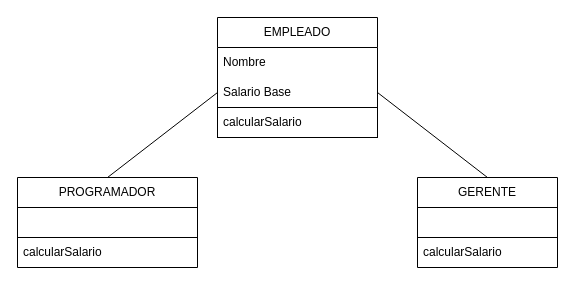
This 575x285 diagram has some shape labels left out. The shapes that lost their labels are listed below. From the top down, each one's centre as x and y in pixels, then its label:
the point at 107,222: lenguajeDominante
the point at 487,222: Departamento
